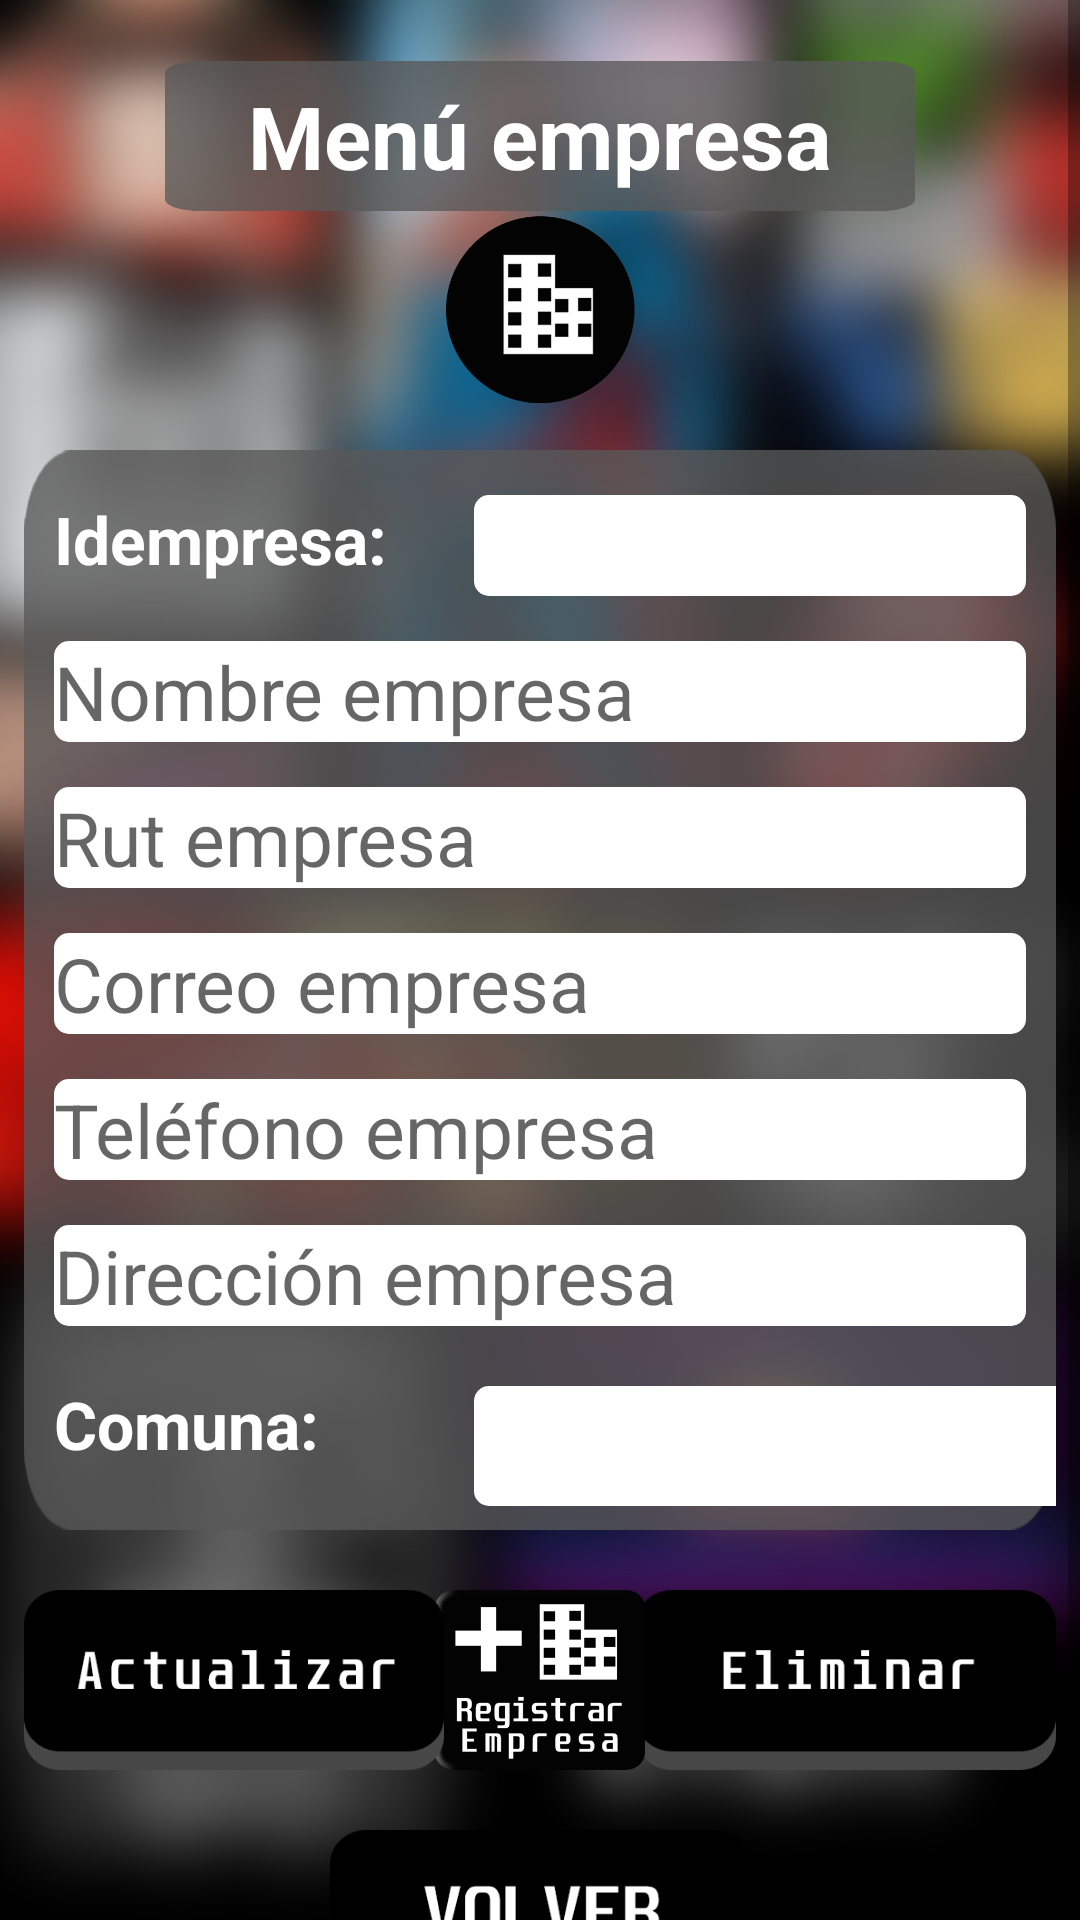

Icon click points for this 1080×1920 phone screenshot, format [x,y]:
iconoempresa: [540,315]
